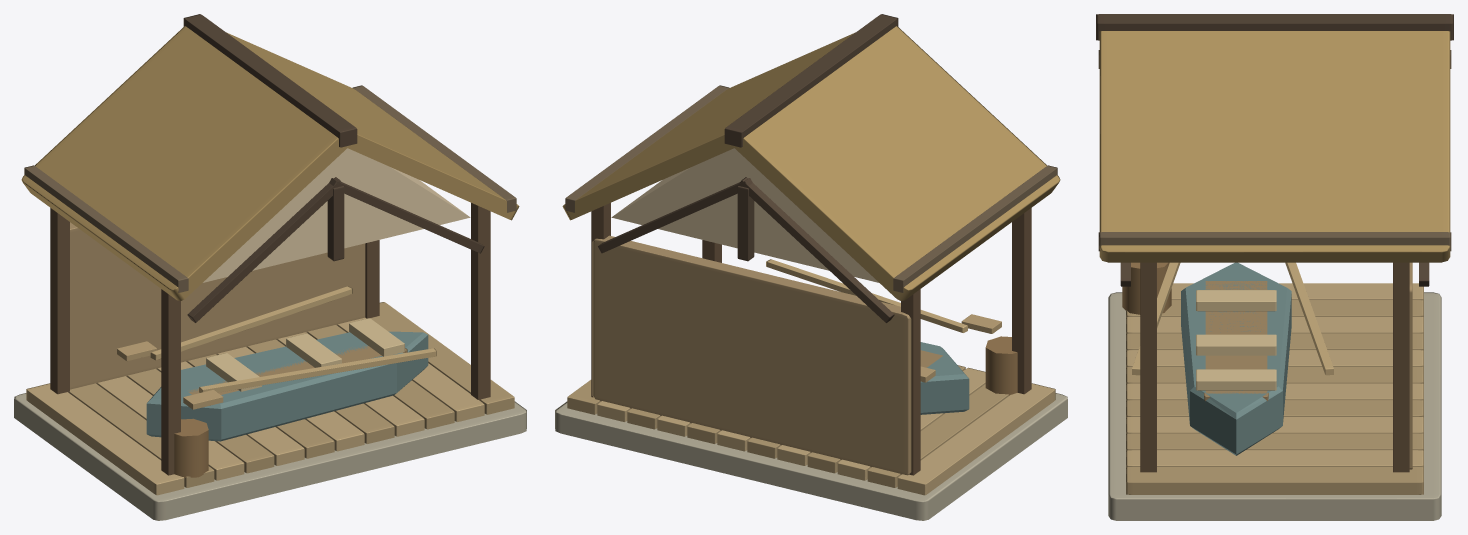
The model's file is boathouse-3.glb.
3 renders of one model, left to right at view 1: azimuth 30°, elevation 25°; view 2: azimuth 150°, elevation 25°; view 3: azimuth 270°, elevation 25°, orthographic. The views are drawn at different scales.
Visible parts, largest first — view 1: boathouse-3-0; view 2: boathouse-3-0; view 3: boathouse-3-0.
Part boxes in pixels (x1,y1,x2,y2): boathouse-3-0: [14, 14, 526, 520]; boathouse-3-0: [555, 14, 1067, 520]; boathouse-3-0: [1096, 14, 1453, 520].
Bounding box in the file's own units: 2.8 × 2.51 × 2.04.
